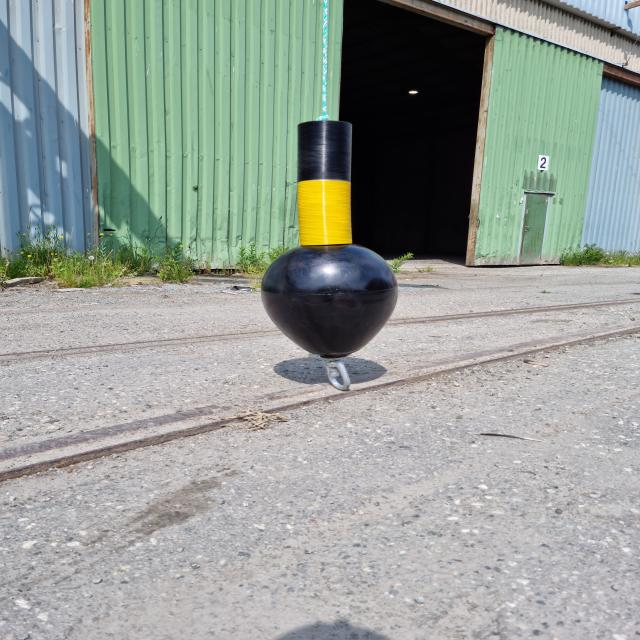east: (260, 120, 399, 357)
